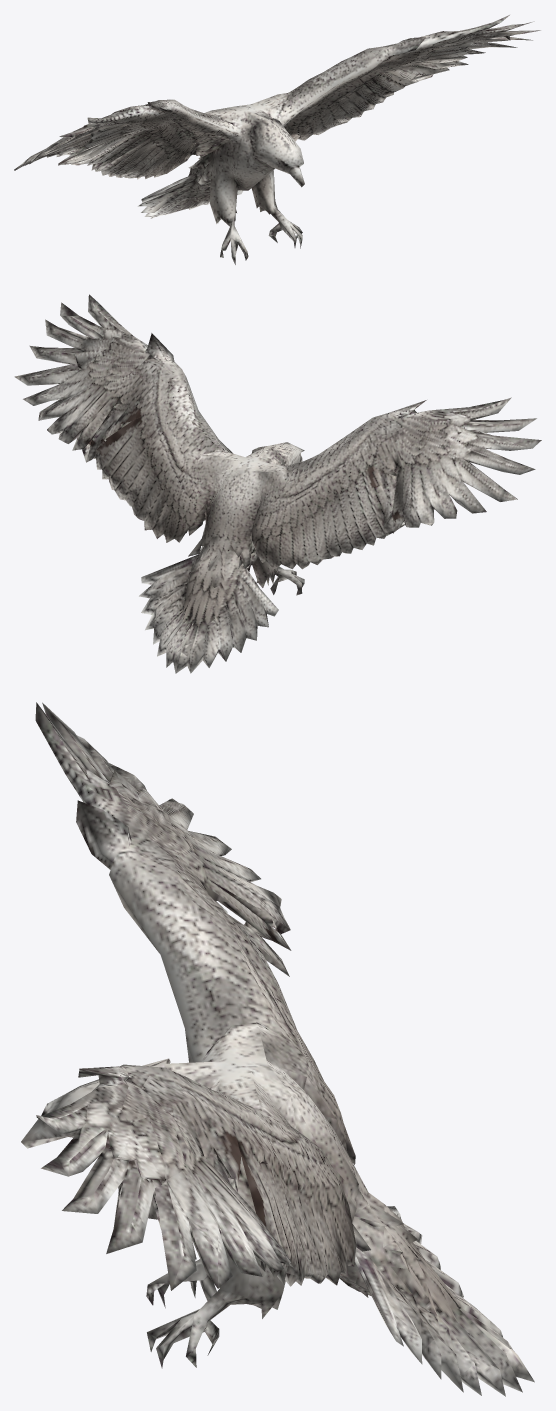
Rendered from EagleFly_clean.glb.
3 views of the same model, one above another, from view 1: azimuth 30°, elevation 25°; view 2: azimuth 150°, elevation 25°; view 3: azimuth 270°, elevation 25° (orthographic). The views are drawn at different scales.
Visible parts, largest first — view 1: EagleFly; view 2: EagleFly; view 3: EagleFly.
Boxes of the visible parts, left/top/right/bottom form: EagleFly: left=14, top=15, right=540, bottom=264; EagleFly: left=14, top=294, right=541, bottom=673; EagleFly: left=21, top=702, right=534, bottom=1396.
Size of the model in its own units: 1.9 by 0.8519 by 0.8383.
1 material, 1 textured.
